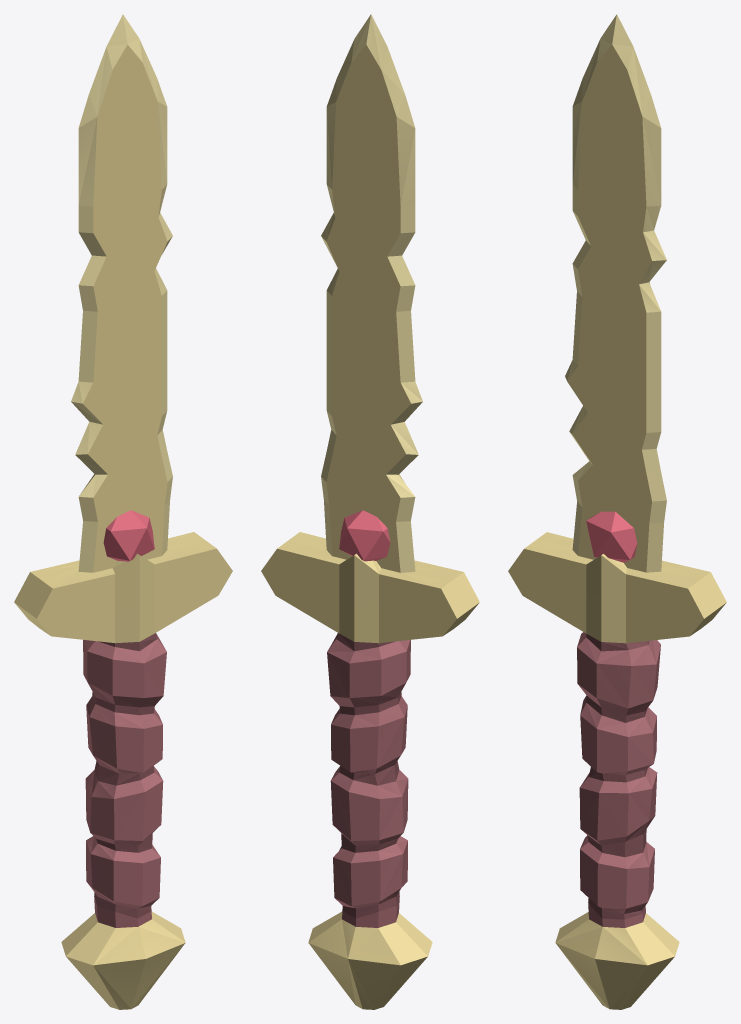
File: punal_ceremonial.glb
The picture shows the model from 3 angles, left to right: view 1: azimuth 30°, elevation 25°; view 2: azimuth 150°, elevation 25°; view 3: azimuth 330°, elevation 25°; orthographic projection.
Visible parts, largest first — view 1: punal_ceremonial; view 2: punal_ceremonial; view 3: punal_ceremonial.
Boxes of the visible parts, x1,y1,x2,y2 form: punal_ceremonial: (14, 14, 232, 1009); punal_ceremonial: (261, 14, 479, 1009); punal_ceremonial: (508, 14, 726, 1009).
Size of the model in its own units: 0.644 by 3.11 by 0.2564.
